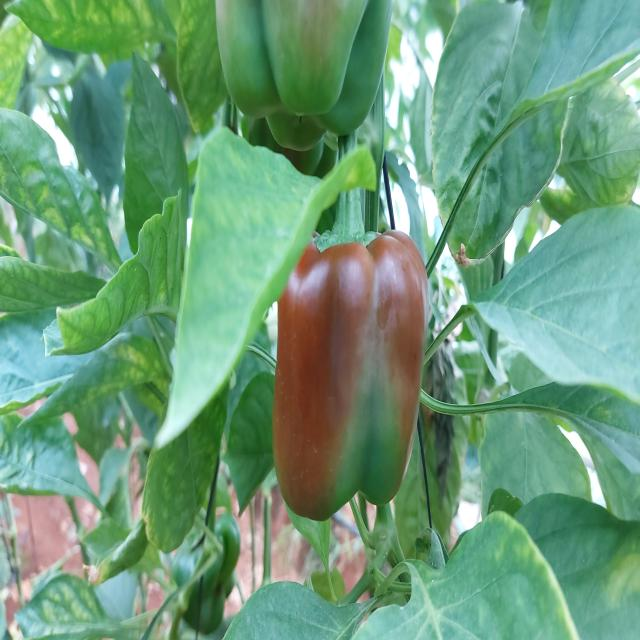BrownishRed--Can-be-Harvested: (274, 241, 429, 506)
Green--Not-ready-to-harvest: (221, 7, 396, 133)
